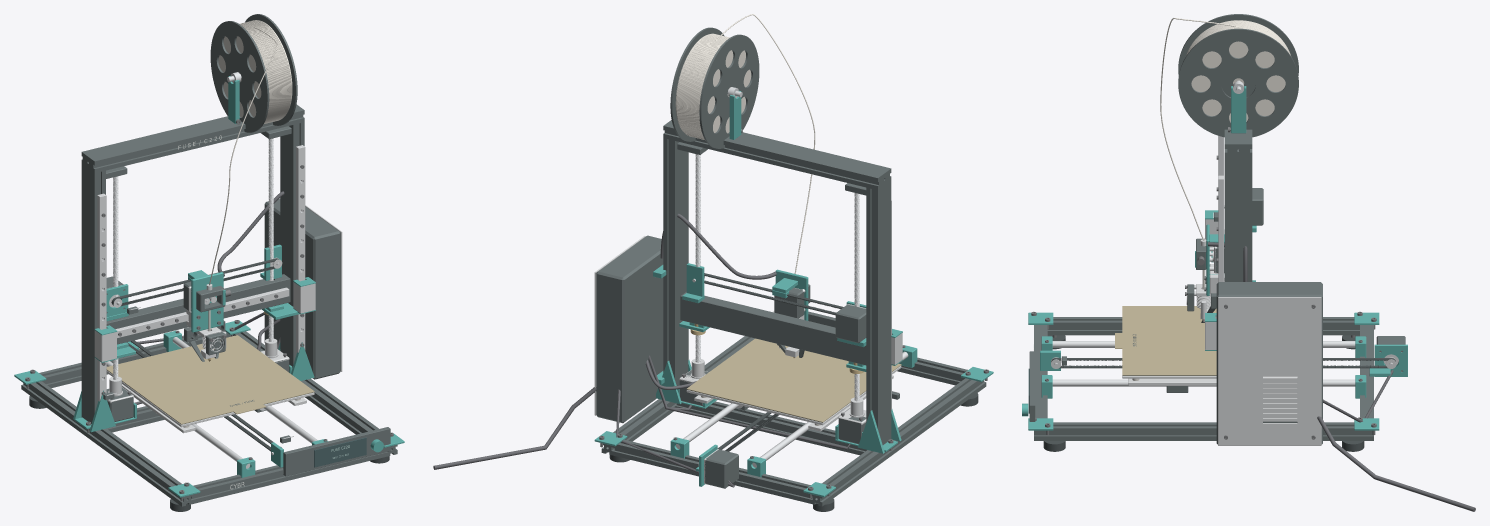
Rendered from FUSE_C220.glb.
3 views of the same model, side by side, from view 1: azimuth 30°, elevation 25°; view 2: azimuth 150°, elevation 25°; view 3: azimuth 270°, elevation 25° (orthographic). The views are drawn at different scales.
Parts seen in each view (by area): view 1: removable_PEI_sheet, electronics_enclosure, portal_top, portal_column_-175, spool_flange_81, portal_column_175, base_side_-180, x_gantry_beam, base_cross_-235, front_fascia, base_side_180, z_rail_175 (+24 smaller); view 2: electronics_enclosure, removable_PEI_sheet, portal_column_-175, portal_column_175, x_gantry_beam, portal_top, spool_flange_81, base_side_-180, base_cross_235, base_cross_50, base_side_180, filament_spool_wound (+12 smaller); view 3: electronics_service_cover, spool_flange_131, removable_PEI_sheet, base_side_180, portal_column_175, electronics_enclosure, base_side_-180, filament_spool_wound, spool_flange_81, power_inlet_cable, y_motor_mount, base_cross_235 (+11 smaller).
Boxes of the visible parts, left/top/right/bottom form: removable_PEI_sheet: left=106, top=335, right=314, bottom=424; electronics_enclosure: left=264, top=198, right=340, bottom=379; portal_top: left=81, top=104, right=304, bottom=173; portal_column_-175: left=81, top=164, right=105, bottom=423; spool_flange_81: left=210, top=21, right=269, bottom=132; portal_column_175: left=280, top=122, right=304, bottom=367; base_side_-180: left=21, top=381, right=193, bottom=506; x_gantry_beam: left=106, top=274, right=290, bottom=344; base_cross_-235: left=191, top=452, right=386, bottom=503; front_fascia: left=283, top=427, right=390, bottom=476; base_side_180: left=233, top=331, right=397, bottom=456; z_rail_175: left=296, top=145, right=305, bottom=352; electronics_enclosure: left=596, top=235, right=663, bottom=423; removable_PEI_sheet: left=686, top=338, right=901, bottom=422; portal_column_-175: left=866, top=181, right=891, bottom=444; portal_column_175: left=663, top=138, right=688, bottom=385; x_gantry_beam: left=680, top=292, right=866, bottom=365; portal_top: left=663, top=120, right=891, bottom=190; spool_flange_81: left=699, top=34, right=759, bottom=148; base_side_-180: left=810, top=378, right=986, bottom=506; base_cross_235: left=613, top=439, right=812, bottom=503; base_cross_50: left=675, top=401, right=866, bottom=455; base_side_180: left=601, top=336, right=754, bottom=455; filament_spool_wound: left=675, top=35, right=751, bottom=133; electronics_service_cover: left=1218, top=297, right=1321, bottom=445; spool_flange_131: left=1178, top=28, right=1298, bottom=137; removable_PEI_sheet: left=1122, top=306, right=1216, bottom=375; base_side_180: left=1034, top=422, right=1373, bottom=440; portal_column_175: left=1224, top=157, right=1252, bottom=281; electronics_enclosure: left=1216, top=282, right=1322, bottom=444; base_side_-180: left=1047, top=317, right=1359, bottom=335; filament_spool_wound: left=1191, top=41, right=1285, bottom=122; spool_flange_81: left=1178, top=14, right=1298, bottom=75; power_inlet_cable: left=1317, top=416, right=1475, bottom=511; y_motor_mount: left=1369, top=344, right=1407, bottom=376; base_cross_235: left=1360, top=325, right=1373, bottom=418.
Bounding box in the file's own units: 0.5956 × 0.6461 × 0.654.
